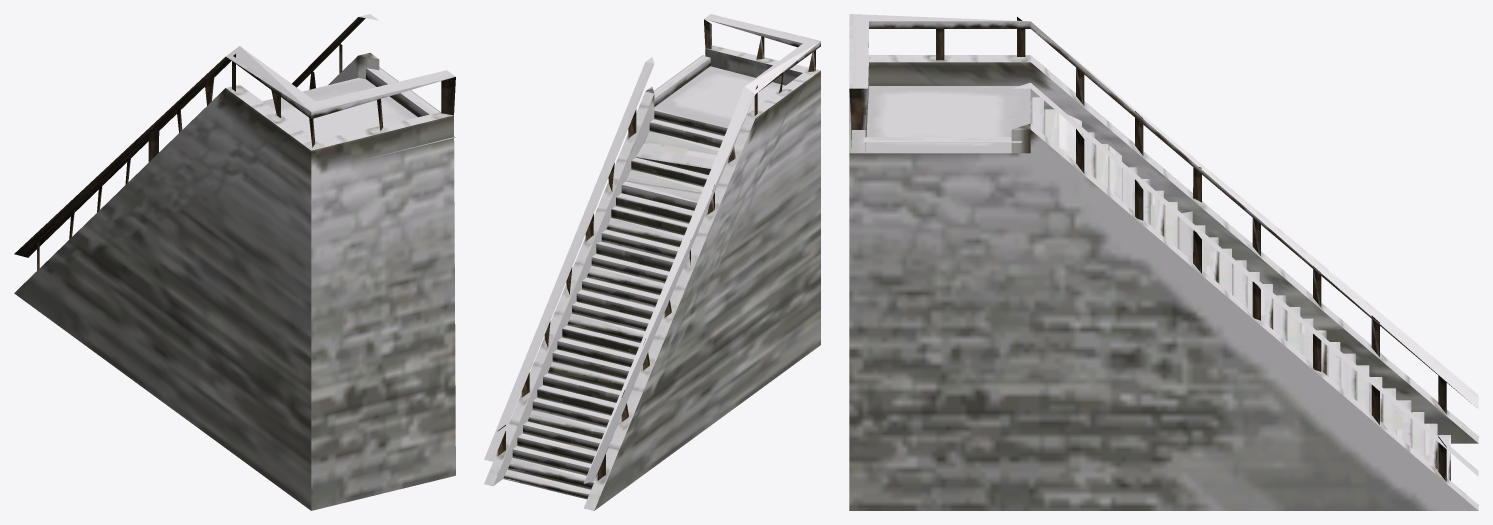
Rendered from general_obj_watchtower03-01_lod_01.glb.
3 renders of one model, left to right at view 1: azimuth 30°, elevation 25°; view 2: azimuth 150°, elevation 25°; view 3: azimuth 270°, elevation 25°, orthographic. The views are drawn at different scales.
Visible parts, largest first — view 1: Sphere01; view 2: Sphere01; view 3: Sphere01.
Boxes of the visible parts, x1,y1,x2,y2 form: Sphere01: (14, 14, 455, 510); Sphere01: (484, 14, 820, 510); Sphere01: (849, 14, 1478, 510).
Size of the model in its own units: 2.91 by 7.49 by 10.12.
1 material, 1 textured.
